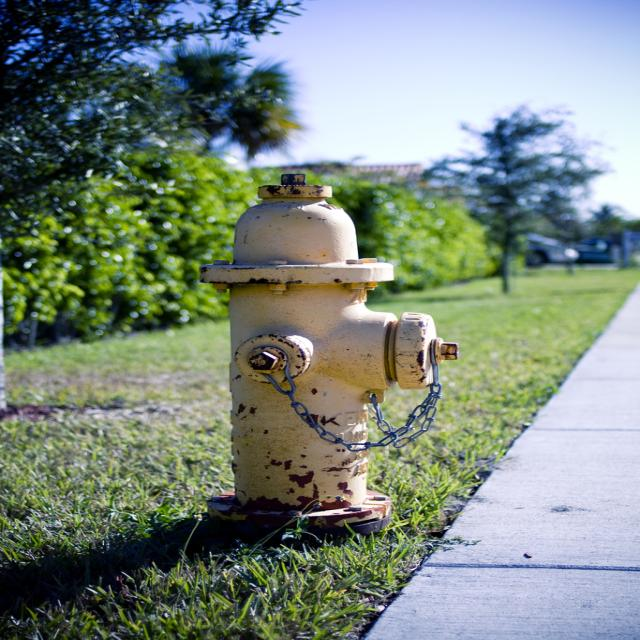fire_hydrant: (197, 174, 457, 545)
